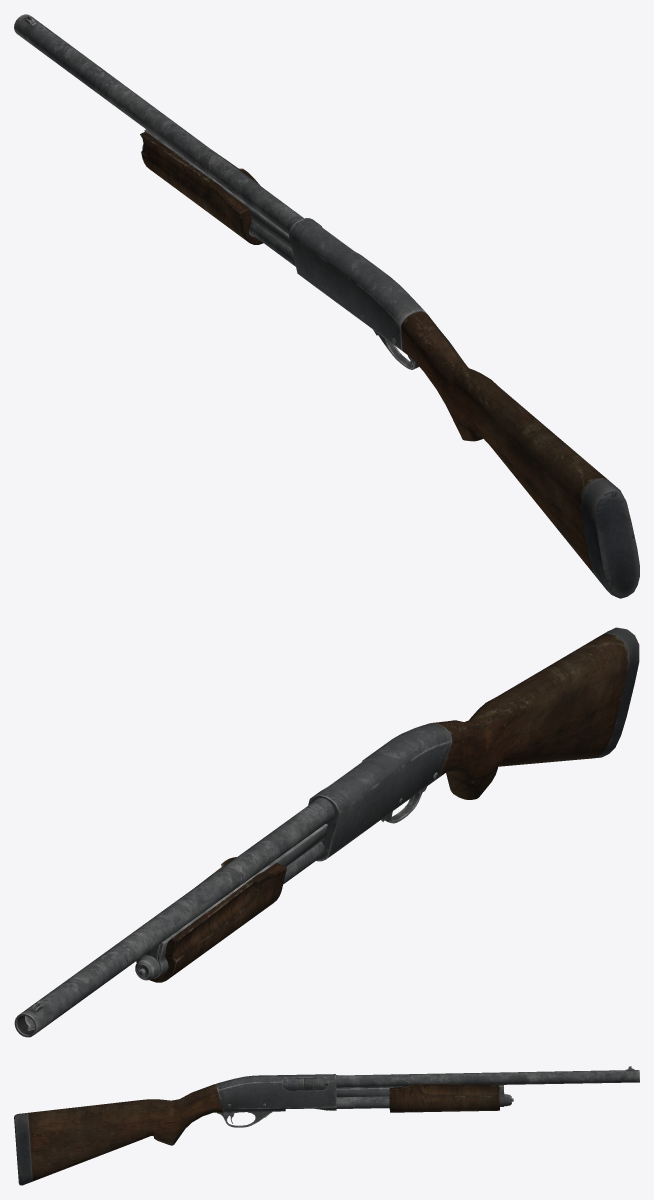
3 views of the same model, one above another, from view 1: azimuth 30°, elevation 25°; view 2: azimuth 150°, elevation 25°; view 3: azimuth 270°, elevation 25° (orthographic). The views are drawn at different scales.
Visible parts, largest first — view 1: Body, PumpGeometry; view 2: Body, PumpGeometry; view 3: Body, PumpGeometry.
Boxes of the visible parts, x1=… form: Body: x1=14, y1=14, x2=639, y2=598; PumpGeometry: x1=140, y1=131, x2=263, y2=244; Body: x1=14, y1=627, x2=639, y2=1037; PumpGeometry: x1=136, y1=857, x2=286, y2=982; Body: x1=14, y1=1066, x2=639, y2=1185; PumpGeometry: x1=282, y1=1078, x2=499, y2=1112.
Size of the model in its own units: 0.1479 by 0.3785 by 2.03.
Materials: 1 (1 with a texture image).
